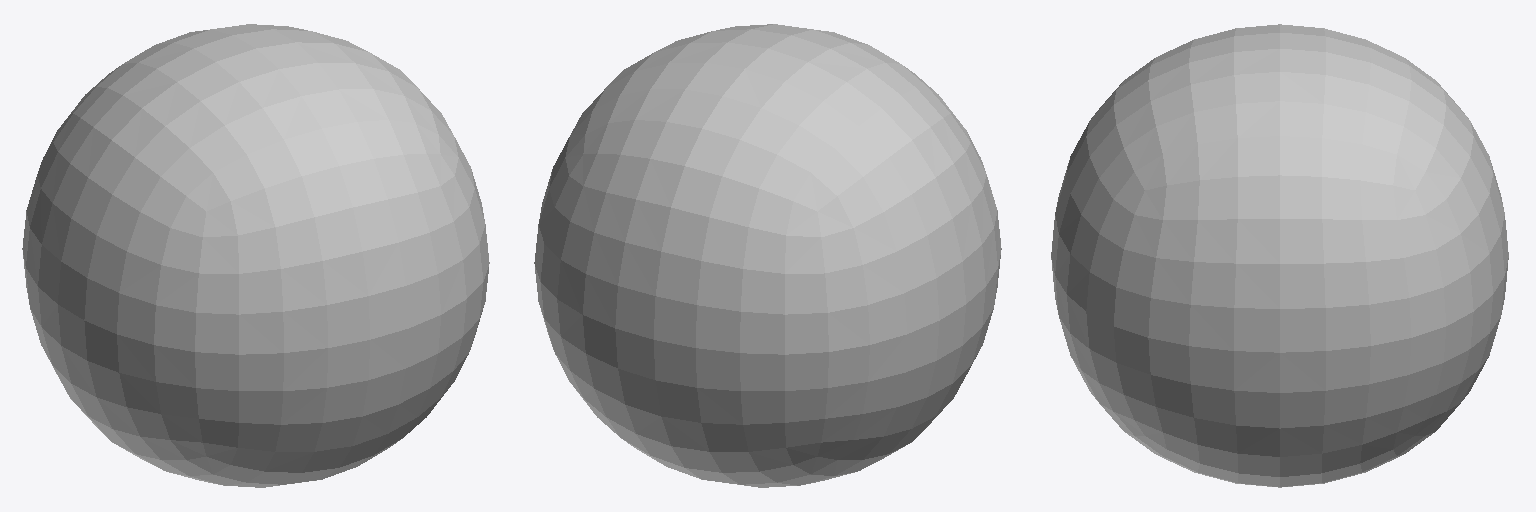
File: geoSphere.obj
3 renders of one model, left to right at view 1: azimuth 30°, elevation 25°; view 2: azimuth 150°, elevation 25°; view 3: azimuth 270°, elevation 25°, orthographic.
Visible parts, largest first — view 1: pCube2 pCube1SmoothProxyGroup; view 2: pCube2 pCube1SmoothProxyGroup; view 3: pCube2 pCube1SmoothProxyGroup.
Boxes of the visible parts, x1=… form: pCube2 pCube1SmoothProxyGroup: x1=22, y1=24, x2=489, y2=487; pCube2 pCube1SmoothProxyGroup: x1=534, y1=24, x2=1001, y2=487; pCube2 pCube1SmoothProxyGroup: x1=1051, y1=24, x2=1508, y2=487.
Bounding box in the file's own units: 0.8492 × 0.8492 × 0.8492.